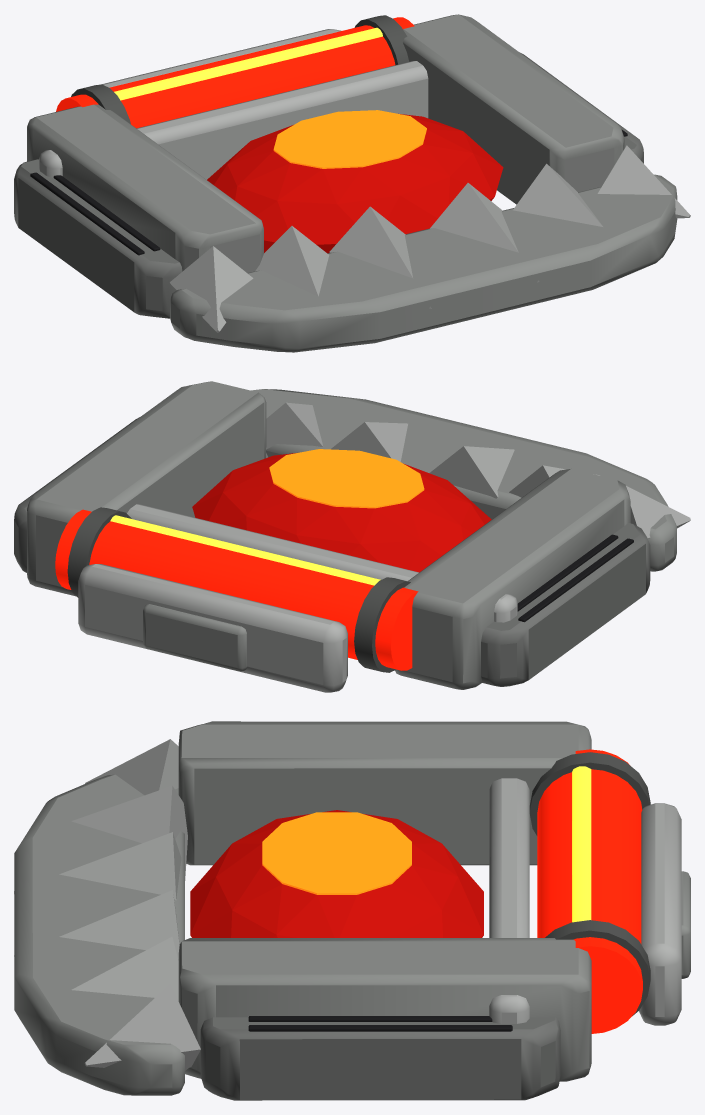
Rendered from store_gun_2.glb.
3 renders of one model, top to bottom at view 1: azimuth 30°, elevation 25°; view 2: azimuth 150°, elevation 25°; view 3: azimuth 270°, elevation 25°, orthographic. The views are drawn at different scales.
Visible parts, largest first — view 1: jaw, pillar_1, crystal, pillar_-1, bar, pillar_step_-1, rail, crystal_table, tooth_-4.0, tooth_-18.0, tooth_4.8, rail_core (+9 smaller); view 2: pillar_-1, pillar_1, rail, crystal, lip, jaw, pillar_step_-1, crystal_table, bar, nub, tooth_-4.0, rail_collar_-1 (+9 smaller); view 3: pillar_-1, pillar_1, jaw, pillar_step_1, crystal, rail, crystal_table, lip, bar, tooth_-4.0, tooth_-11.0, tooth_4.8 (+9 smaller).
Boxes of the visible parts, box(x1,y1,x2,y2) form: jaw: box(170, 174, 677, 352); pillar_1: box(403, 14, 624, 204); crystal: box(207, 113, 503, 253); pillar_-1: box(27, 104, 263, 272); bar: box(39, 61, 428, 179); pillar_step_-1: box(14, 159, 182, 318); rail: box(56, 17, 414, 128); crystal_table: box(273, 110, 426, 168); tooth_-4.0: box(329, 206, 431, 308); tooth_-18.0: box(170, 246, 253, 332); tooth_4.8: box(430, 183, 539, 282); rail_core: box(114, 27, 382, 100); pillar_-1: box(395, 468, 630, 689); pillar_1: box(27, 381, 266, 596); rail: box(55, 509, 418, 670); crystal: box(192, 453, 491, 572); lip: box(78, 564, 347, 692); jaw: box(251, 389, 676, 571); pillar_step_-1: box(481, 523, 650, 686); crystal_table: box(269, 449, 424, 508); bar: box(127, 504, 517, 622); nub: box(143, 604, 246, 671); tooth_-4.0: box(429, 446, 514, 498); rail_collar_-1: box(354, 577, 410, 672); pillar_-1: box(178, 721, 591, 865); pillar_1: box(178, 938, 591, 1081); jaw: box(14, 774, 184, 1095); pillar_step_1: box(200, 1017, 560, 1100); crystal: box(190, 810, 483, 937); rail: box(537, 749, 642, 1033); crystal_table: box(262, 812, 411, 894); lip: box(639, 803, 681, 1025); bar: box(489, 778, 529, 1023); tooth_-4.0: box(14, 832, 181, 900); tooth_-11.0: box(71, 785, 187, 880); tooth_4.8: box(14, 890, 179, 958).
Bounding box in the file's own units: 45.6 × 7.99 × 43.62.
